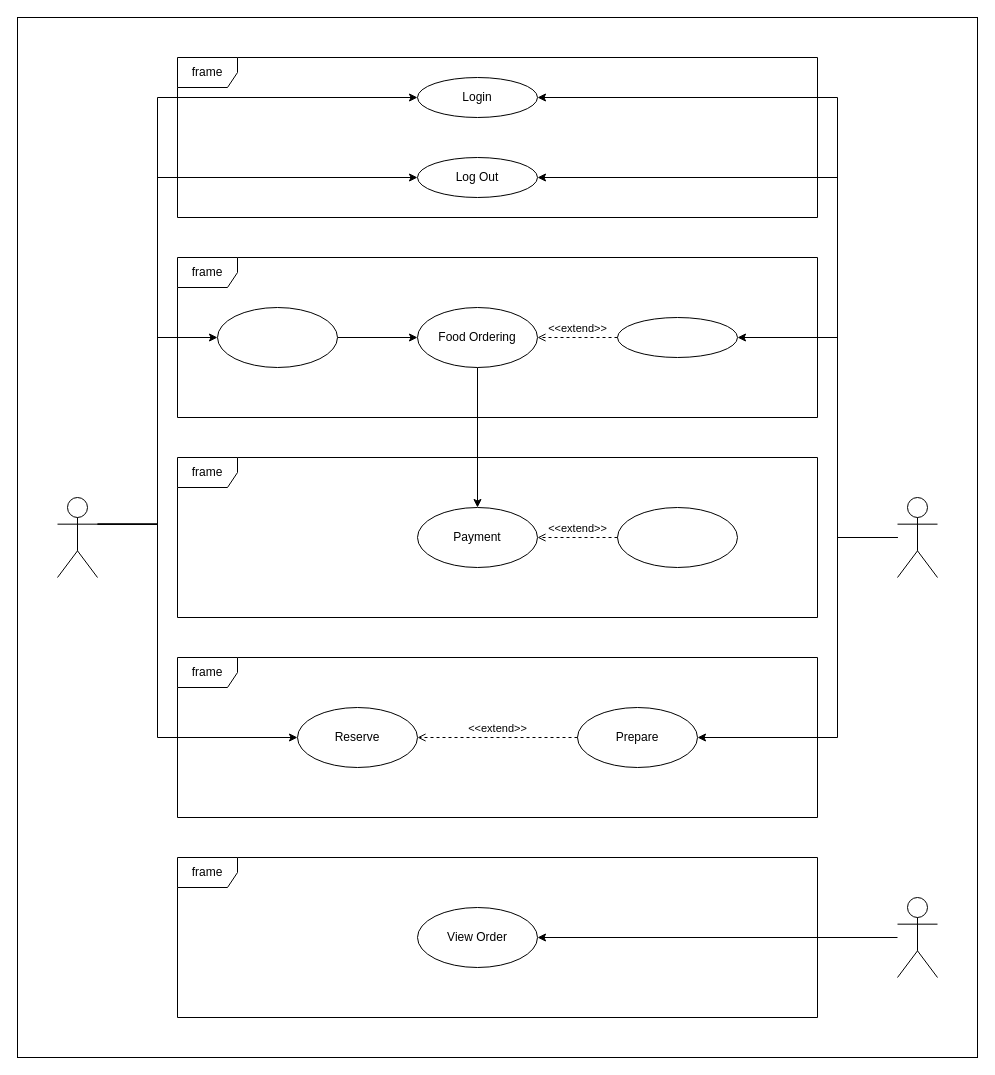
The diagram is 995 pixels wide and 1075 high, and some of its shapes have lost their labels. The box of each missing label's shape, as (x1, y1, x2, y2) in pixels:
Clerk: (896, 496, 938, 578)
Confirm Order: (616, 316, 738, 358)
Customer: (56, 496, 98, 578)
Feedback: (616, 506, 738, 568)
Kitchen: (896, 896, 938, 978)
Scan QR: (216, 306, 338, 368)
